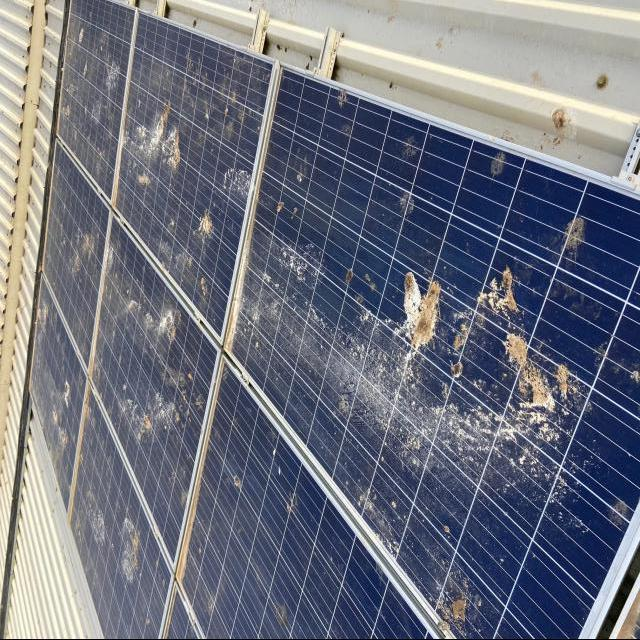Photovoltaic-Panel: (29, 3, 640, 640)
